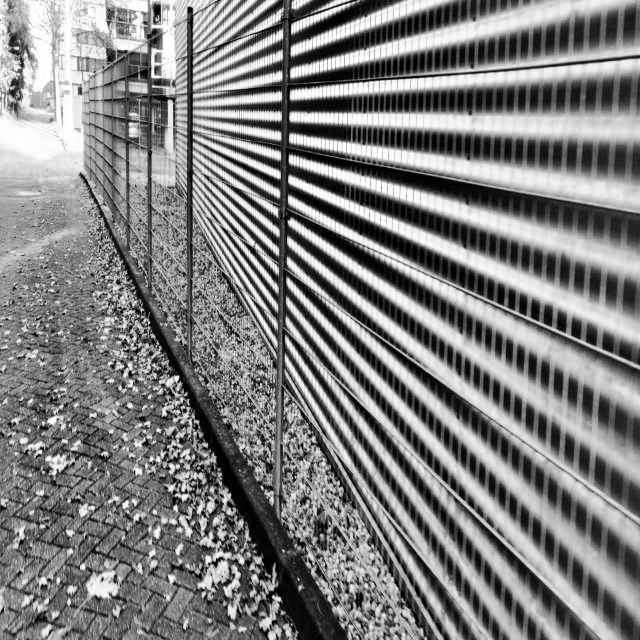fences: (167, 0, 640, 617), (70, 28, 156, 237)
